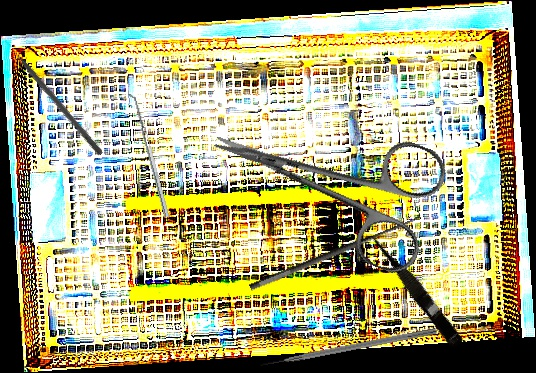Hook Surgical: (243, 201, 424, 293), (258, 325, 438, 369)
Iris Scissors: (192, 75, 455, 280)
Micro Scissor: (364, 226, 467, 350)
Pusher: (3, 37, 105, 157)
Spatula Surgical: (126, 91, 170, 220)
